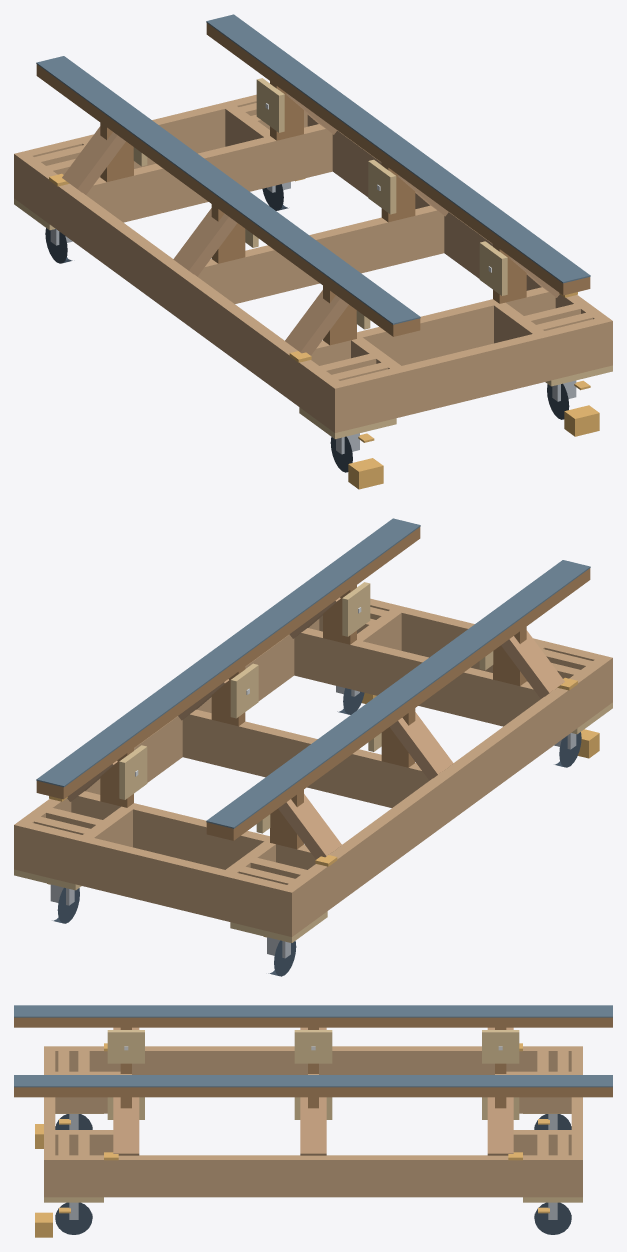
File: vx110-wood-dolly.glb
The picture shows the model from 3 angles, top to bottom: view 1: azimuth 30°, elevation 25°; view 2: azimuth 150°, elevation 25°; view 3: azimuth 270°, elevation 25°; orthographic projection. The views are drawn at different scales.
Parts seen in each view (by area): view 1: Base / 2x6 long rail left, Base / 2x6 rear, Bunk / marine carpet starboard, Bunk / marine carpet port, Base / 2x6 cross middle, Base / 2x6 cross A, Base / 2x6 cross B, Base / 2x6 long rail right, Bunk / 2x4 80in port, Bunk / 2x4 80in starboard, Base / 2x6 front, Brace / angled 2x4 port 1 (+17 smaller); view 2: Base / 2x6 long rail left, Base / 2x6 front, Bunk / marine carpet starboard, Bunk / marine carpet port, Base / 2x6 cross middle, Base / 2x6 cross B, Base / 2x6 cross A, Base / 2x6 long rail right, Bunk / 2x4 80in port, Bunk / 2x4 80in starboard, Base / 2x6 rear, Brace / angled 2x4 port 3 (+17 smaller); view 3: Base / 2x6 long rail right, Base / 2x6 long rail left, Bunk / marine carpet port, Bunk / marine carpet starboard, Bunk / 2x4 80in port, Bunk / 2x4 80in starboard, Brace / angled 2x4 starboard 2, Brace / angled 2x4 starboard 1, Brace / angled 2x4 starboard 3, Support / 3-4in ply cheek port 2, Support / 3-4in ply cheek port 1, Support / 3-4in ply cheek port 3 (+11 smaller).
Boxes of the visible parts, x1=… form: Base / 2x6 long rail left: x1=14, y1=151, x2=346, y2=432; Base / 2x6 rear: x1=340, y1=319, x2=601, y2=430; Bunk / marine carpet starboard: x1=206, y1=14, x2=590, y2=283; Bunk / marine carpet port: x1=36, y1=56, x2=420, y2=324; Base / 2x6 cross middle: x1=197, y1=205, x2=444, y2=303; Base / 2x6 cross A: x1=86, y1=124, x2=332, y2=222; Base / 2x6 cross B: x1=311, y1=287, x2=555, y2=365; Base / 2x6 long rail right: x1=307, y1=115, x2=612, y2=367; Bunk / 2x4 80in port: x1=36, y1=64, x2=420, y2=336; Bunk / 2x4 80in starboard: x1=206, y1=23, x2=590, y2=295; Base / 2x6 front: x1=26, y1=94, x2=256, y2=168; Brace / angled 2x4 port 1: x1=62, y1=126, x2=125, y2=194; Base / 2x6 long rail left: x1=280, y1=655, x2=612, y2=936; Base / 2x6 front: x1=25, y1=823, x2=286, y2=934; Bunk / marine carpet starboard: x1=36, y1=518, x2=420, y2=787; Bunk / marine carpet port: x1=206, y1=560, x2=590, y2=828; Base / 2x6 cross middle: x1=182, y1=709, x2=429, y2=807; Base / 2x6 cross B: x1=294, y1=628, x2=540, y2=726; Base / 2x6 cross A: x1=71, y1=791, x2=315, y2=869; Base / 2x6 long rail right: x1=14, y1=619, x2=319, y2=871; Bunk / 2x4 80in port: x1=206, y1=568, x2=590, y2=840; Bunk / 2x4 80in starboard: x1=36, y1=527, x2=420, y2=799; Base / 2x6 rear: x1=370, y1=598, x2=600, y2=672; Brace / angled 2x4 port 3: x1=501, y1=630, x2=564, y2=698; Base / 2x6 long rail right: x1=44, y1=1155, x2=582, y2=1197; Base / 2x6 long rail left: x1=44, y1=1046, x2=582, y2=1074; Bunk / marine carpet port: x1=14, y1=1005, x2=612, y2=1017; Bunk / marine carpet starboard: x1=14, y1=1075, x2=612, y2=1087; Bunk / 2x4 80in port: x1=14, y1=1017, x2=612, y2=1027; Bunk / 2x4 80in starboard: x1=14, y1=1087, x2=612, y2=1097; Brace / angled 2x4 starboard 2: x1=300, y1=1097, x2=326, y2=1155; Brace / angled 2x4 starboard 1: x1=487, y1=1097, x2=513, y2=1155; Brace / angled 2x4 starboard 3: x1=113, y1=1097, x2=139, y2=1155; Support / 3-4in ply cheek port 2: x1=294, y1=1030, x2=332, y2=1063; Support / 3-4in ply cheek port 1: x1=482, y1=1030, x2=519, y2=1063; Support / 3-4in ply cheek port 3: x1=107, y1=1030, x2=144, y2=1063.
Size of the model in its own units: 0.9195 by 0.5337 by 2.03.
